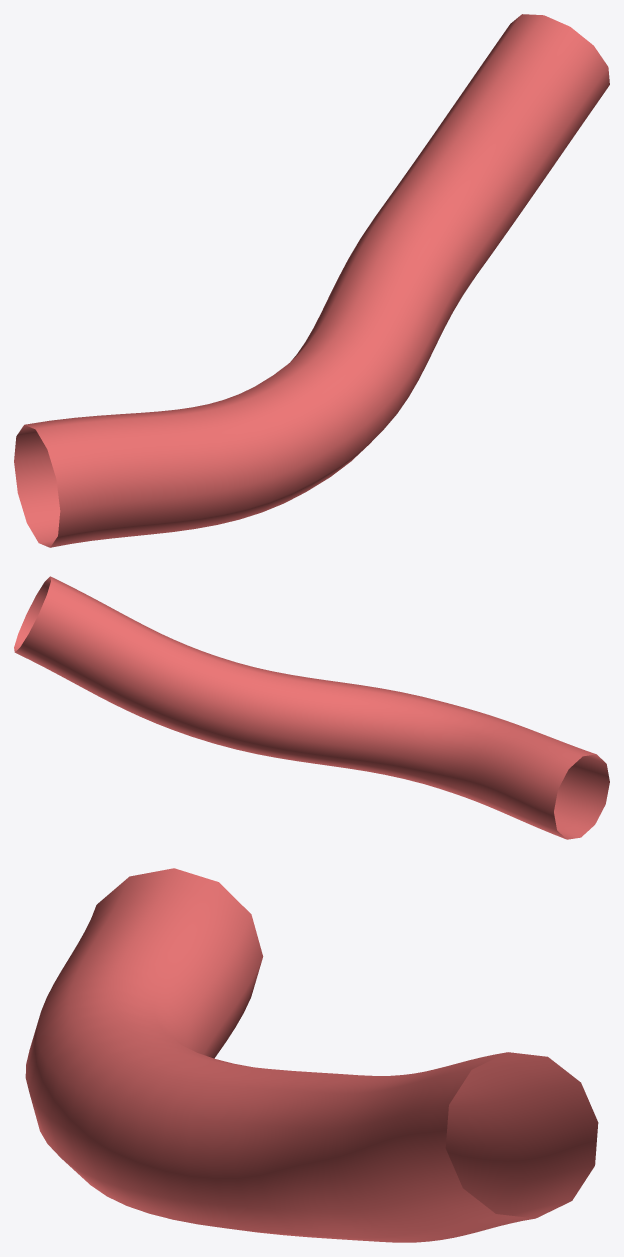
File: Left_colic_artery.glb
3 views of the same model, one above another, from view 1: azimuth 30°, elevation 25°; view 2: azimuth 150°, elevation 25°; view 3: azimuth 270°, elevation 25° (orthographic). The views are drawn at different scales.
Visible parts, largest first — view 1: Left_colic_artery_BezierCurve.256; view 2: Left_colic_artery_BezierCurve.256; view 3: Left_colic_artery_BezierCurve.256.
Part boxes in pixels (box(x1,y1,x2,y2)): Left_colic_artery_BezierCurve.256: box(14, 14, 609, 547); Left_colic_artery_BezierCurve.256: box(14, 576, 609, 839); Left_colic_artery_BezierCurve.256: box(25, 868, 598, 1242).
Size of the model in its own units: 0.0187 by 0.00764 by 0.0095.
